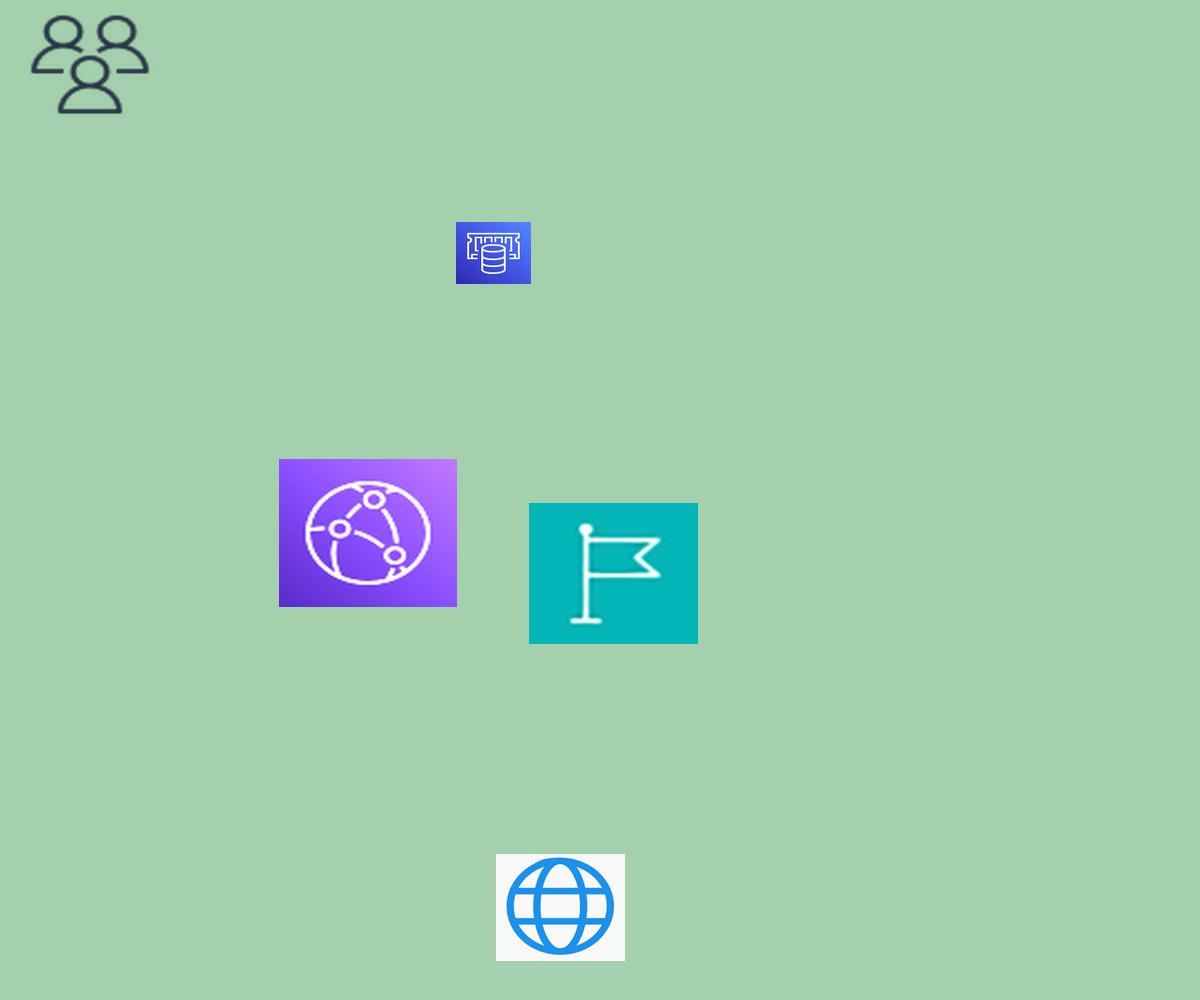AWS-CloudFront: (279, 459, 457, 607)
AWS-ElastiCache: (456, 222, 531, 284)
AWS-Region: (529, 503, 698, 644)
AWS-Res_Users: (26, 11, 154, 118)
Azure_http: (496, 854, 625, 961)
